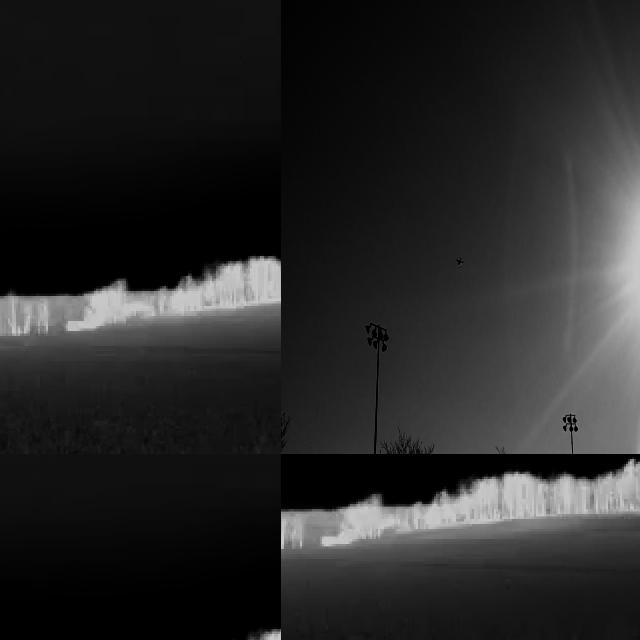drone: (449, 246, 467, 273)
